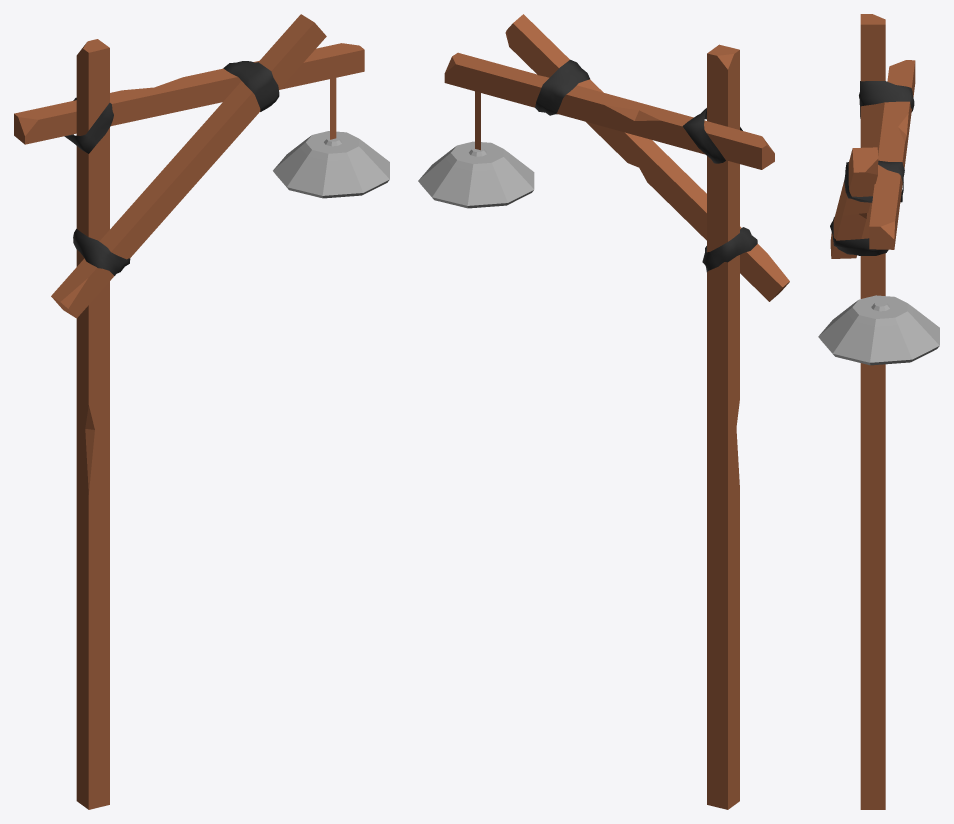
The model's file is lampose2.fbx.
3 renders of one model, left to right at view 1: azimuth 30°, elevation 25°; view 2: azimuth 150°, elevation 25°; view 3: azimuth 270°, elevation 25°, orthographic. The views are drawn at different scales.
Parts seen in each view (by area): view 1: Case & bulb; view 2: Case & bulb; view 3: Case & bulb.
Part boxes in pixels (x1,y1,x2,y2): Case & bulb: (14, 14, 389, 809); Case & bulb: (418, 14, 789, 809); Case & bulb: (818, 14, 939, 809).
Size of the model in its own units: 247 by 503 by 70.7.
